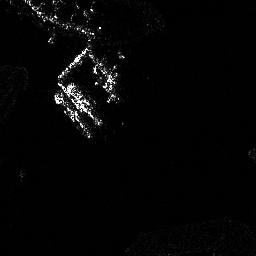ship: (53, 91, 93, 139), (68, 82, 102, 122)
